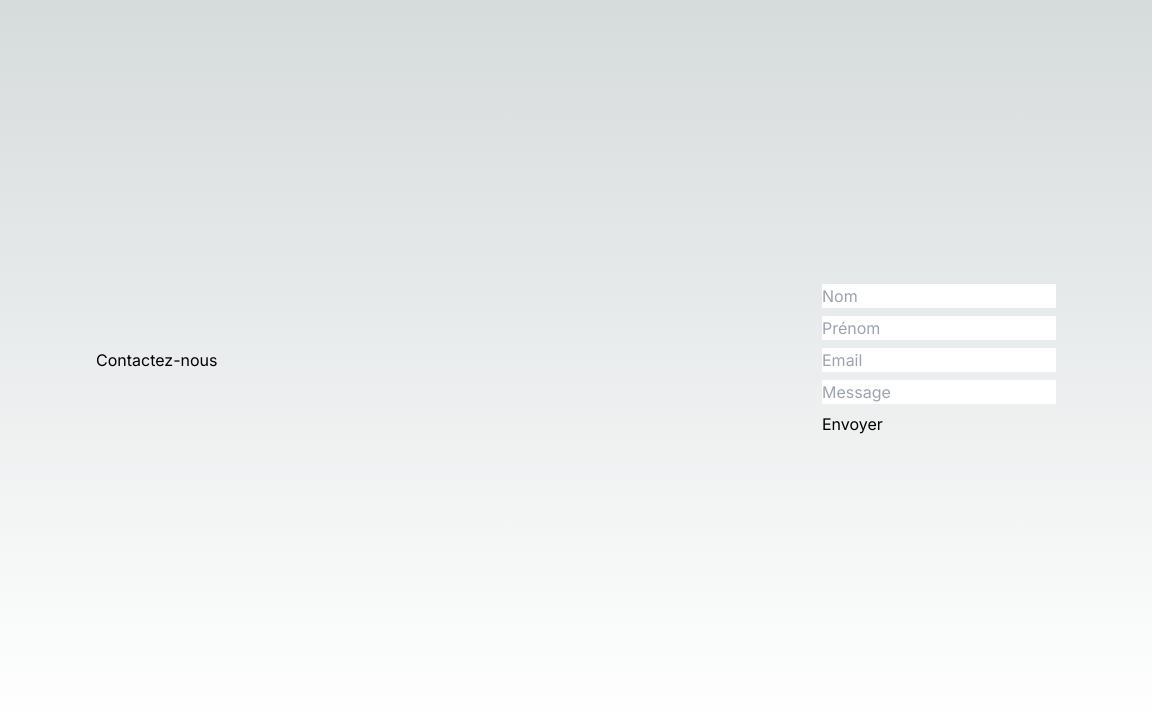
Test: Contact page › should send a message
Type "Doe" into the field named "lastName".
click(939, 296); type("Doe")  # box [822, 284, 1056, 308]
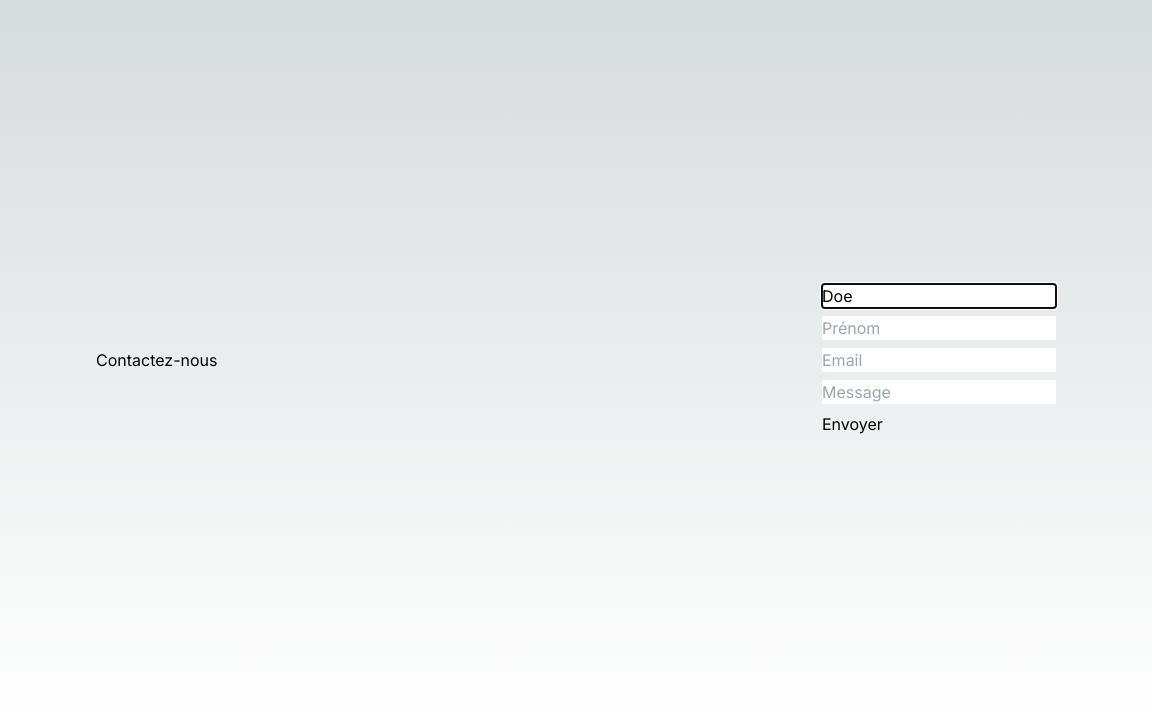
Type "John" into the field named "firstName".
click(939, 328); type("John")  # box [822, 316, 1056, 340]
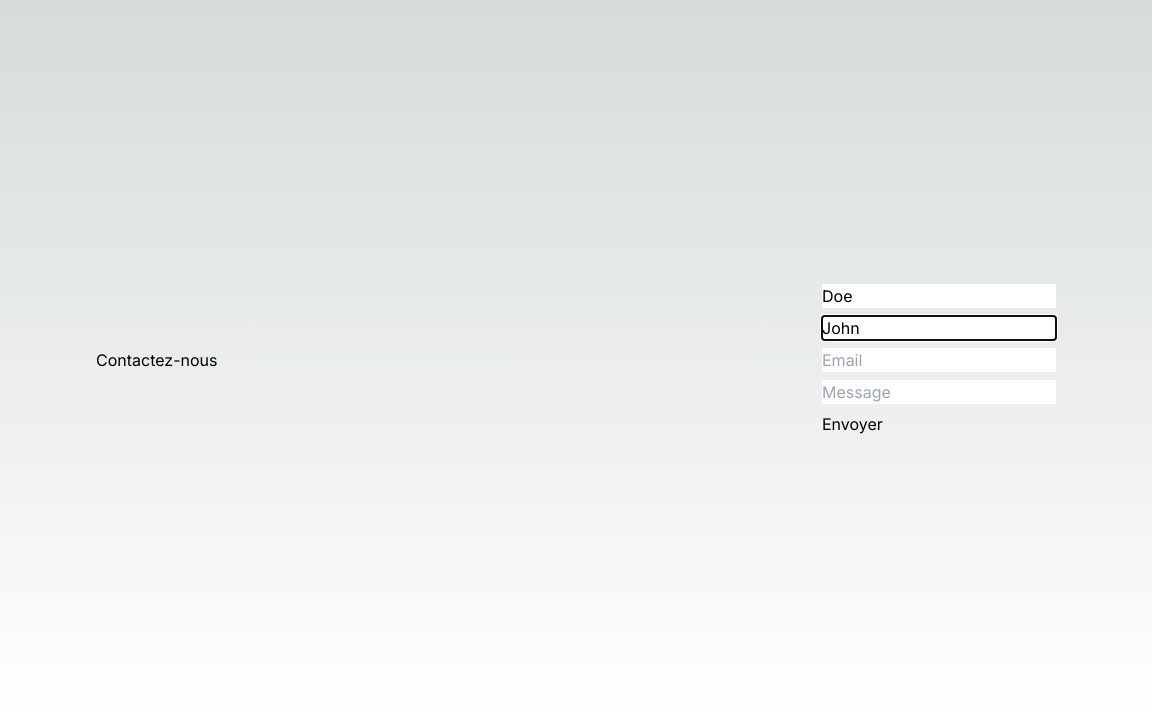
Type "johndoe@gmail.com" into the field named "email".
click(939, 360); type("johndoe@gmail.com")  # box [822, 348, 1056, 372]
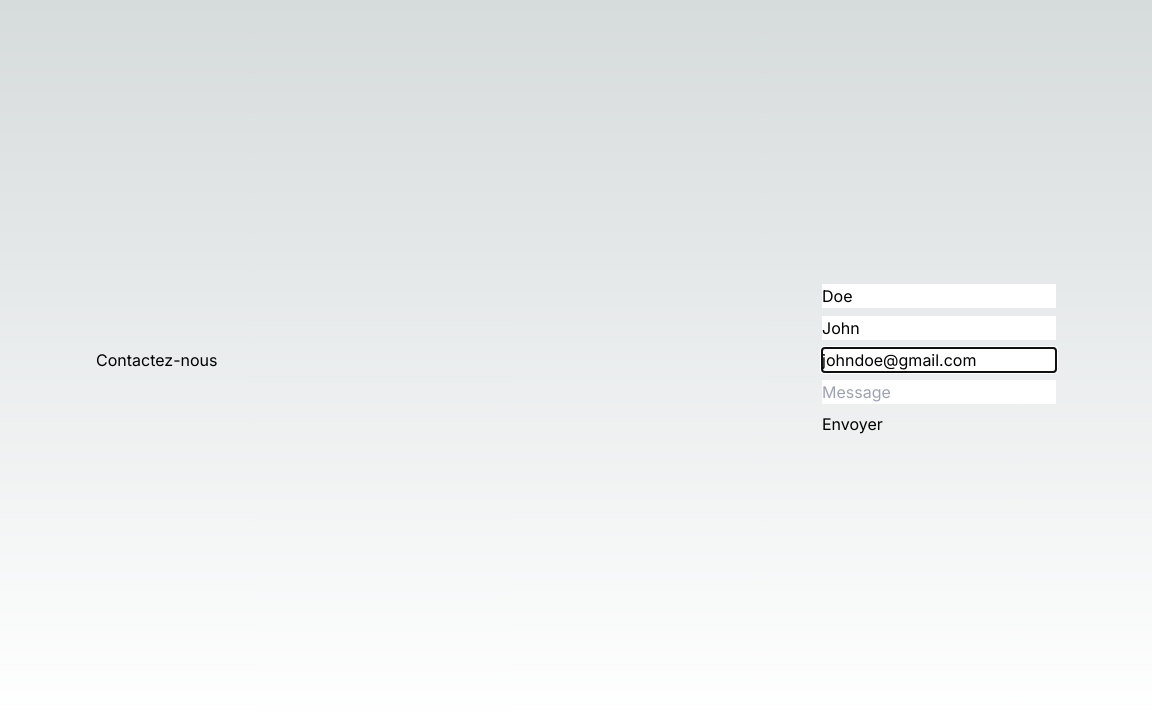
Type "hello world !" into the field named "message".
click(939, 392); type("hello world !")  # box [822, 380, 1056, 404]
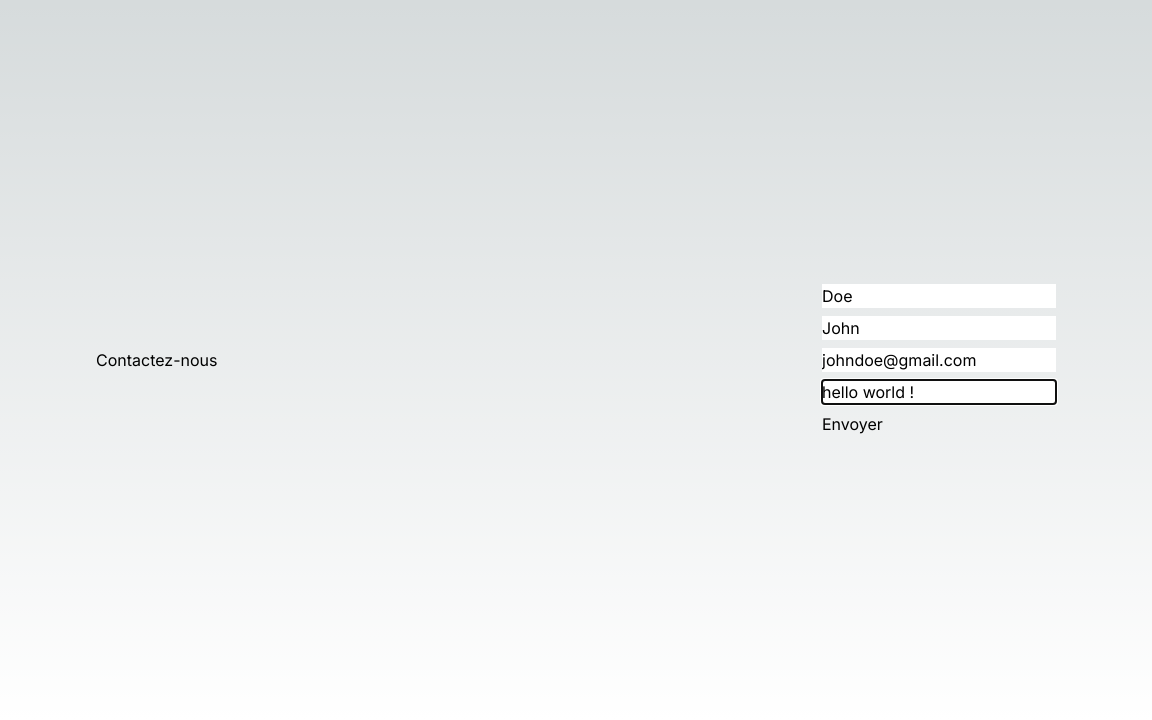
Click the submit button.
click(853, 424)  # box [822, 412, 883, 436]
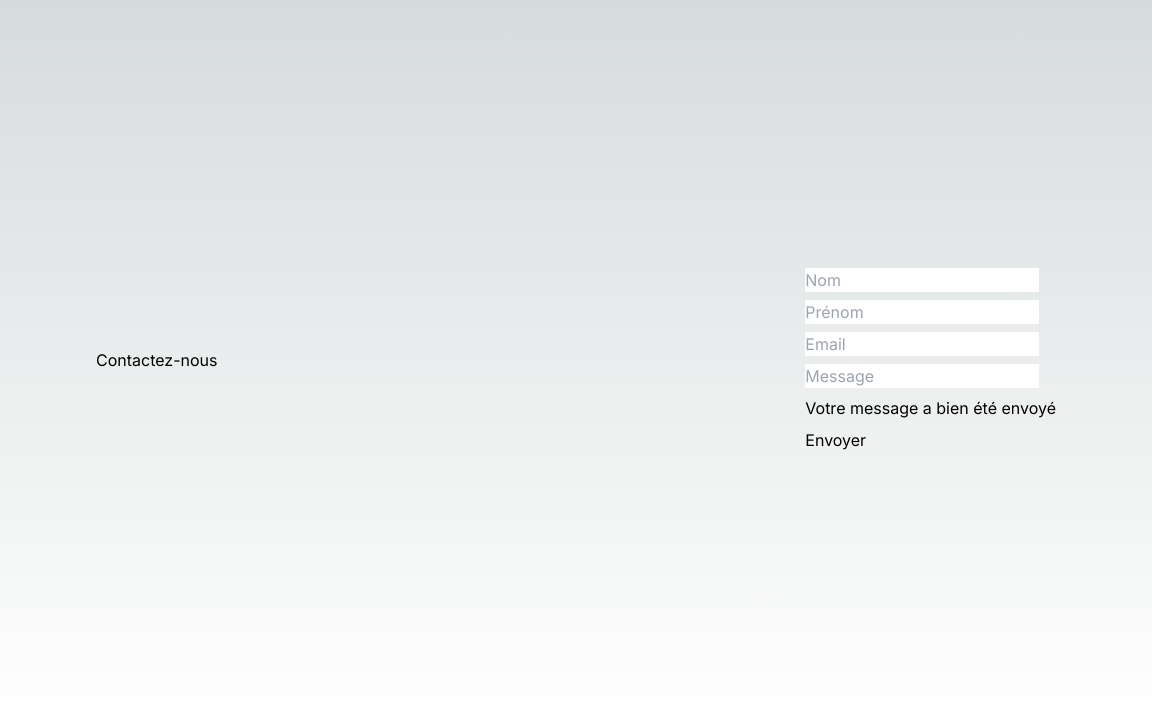
Check: the text "Votre message a bien été envoyé" is shown, box [805, 396, 1056, 420]
